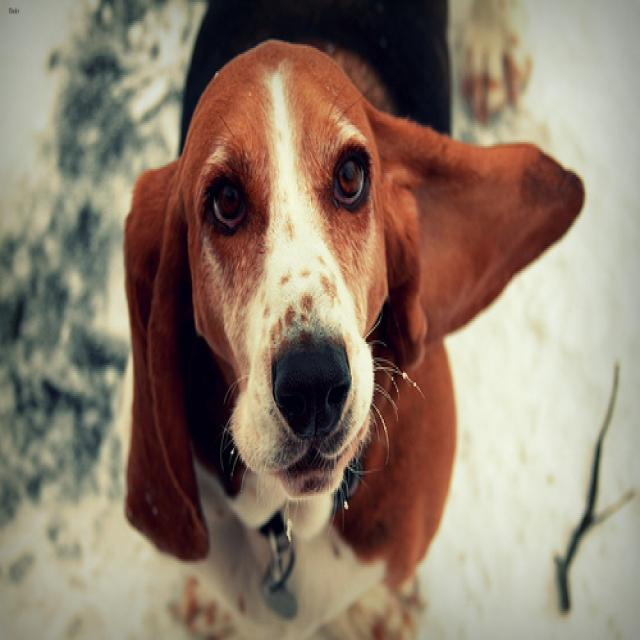dog-basset_hound: (108, 2, 593, 636)
